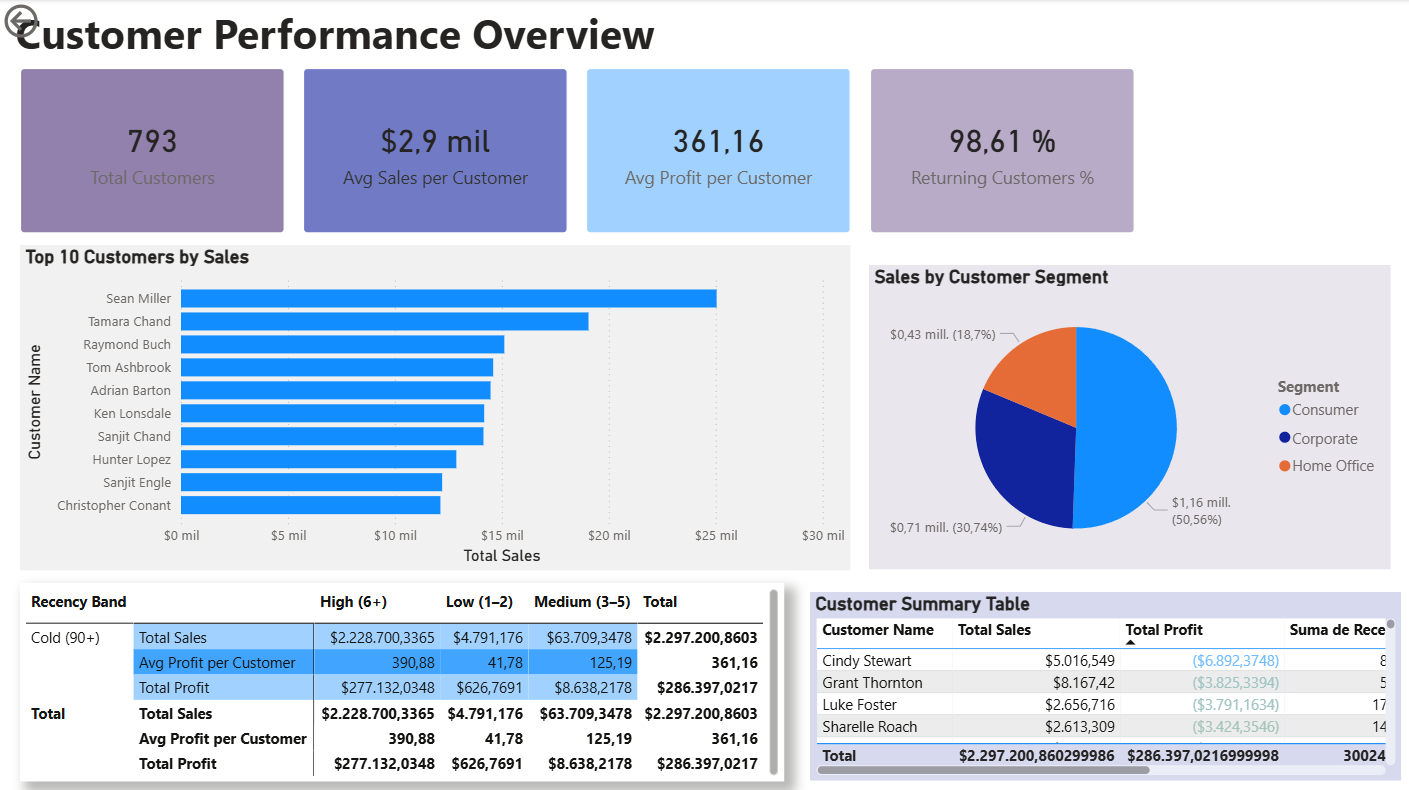

What the dashboard file says about the page in this screenshot:
{"tool":"powerbi","page":{"name":"Customer Performance Overview","canvas":[1280,720],"ordinal":3},"visuals":[{"type":"textbox","box":[9.7,0,630.3,62.2],"z":0},{"type":"card","fields":{"Values":["superstore.Total Customers"]},"box":[19.5,62.2,240.2,149.8],"z":1000},{"type":"card","fields":{"Values":["superstore.Avg Sales per Customer"]},"box":[275.3,62.2,240.2,149.8],"z":2000},{"type":"card","fields":{"Values":["superstore.Avg Profit per Customer"]},"box":[532,62.2,240.2,149.8],"z":3000},{"type":"card","fields":{"Values":["superstore.Returning Customers %"]},"box":[789.8,62.2,240.2,149.8],"z":4000},{"type":"clusteredBarChart","title":"Top 10 Customers by Sales","fields":{"Category":["superstore.Customer Name"],"Y":["superstore.Total Sales"]},"box":[19.5,222.7,752.8,294.7],"z":5000},{"type":"pieChart","title":"Sales by Customer Segment","fields":{"Category":["superstore.Segment"],"Y":["superstore.Total Sales"]},"box":[788.8,241.2,472.7,276.2],"z":6000},{"type":"pivotTable","fields":{"Rows":["superstore.Recency Band"],"Columns":["superstore.Frequency Band"],"Values":["superstore.Total Sales","superstore.Avg Profit per Customer","superstore.Total Profit"]},"box":[19.5,529.1,692.5,179.9],"z":7000},{"type":"tableEx","title":"Customer Summary Table","fields":{"Values":["superstore.Customer Name","superstore.Total Sales","superstore.Total Profit","superstore.Recency","superstore.Frequency","superstore.Customer ID","superstore.City"]},"box":[735.3,537.9,535.9,171.2],"z":8000},{"type":"actionButton","box":[0,0,100,40],"z":9000}]}

Visuals, with their boxes in screenshot pixels (x1, y1, x2, y2), scaled from the page's 1280x720 canvas onto the 1409x790 screenshot:
textbox: 11, 0, 704, 68
card - superstore.Total Customers: 21, 68, 286, 233
card - superstore.Avg Sales per Customer: 303, 68, 567, 233
card - superstore.Avg Profit per Customer: 586, 68, 850, 233
card - superstore.Returning Customers %: 869, 68, 1134, 233
"Top 10 Customers by Sales" clusteredBarChart: 21, 244, 850, 568
"Sales by Customer Segment" pieChart: 868, 265, 1389, 568
pivotTable - superstore.Recency Band x superstore.Frequency Band: 21, 581, 784, 778
"Customer Summary Table" tableEx: 809, 590, 1399, 778
actionButton: 0, 0, 110, 44
